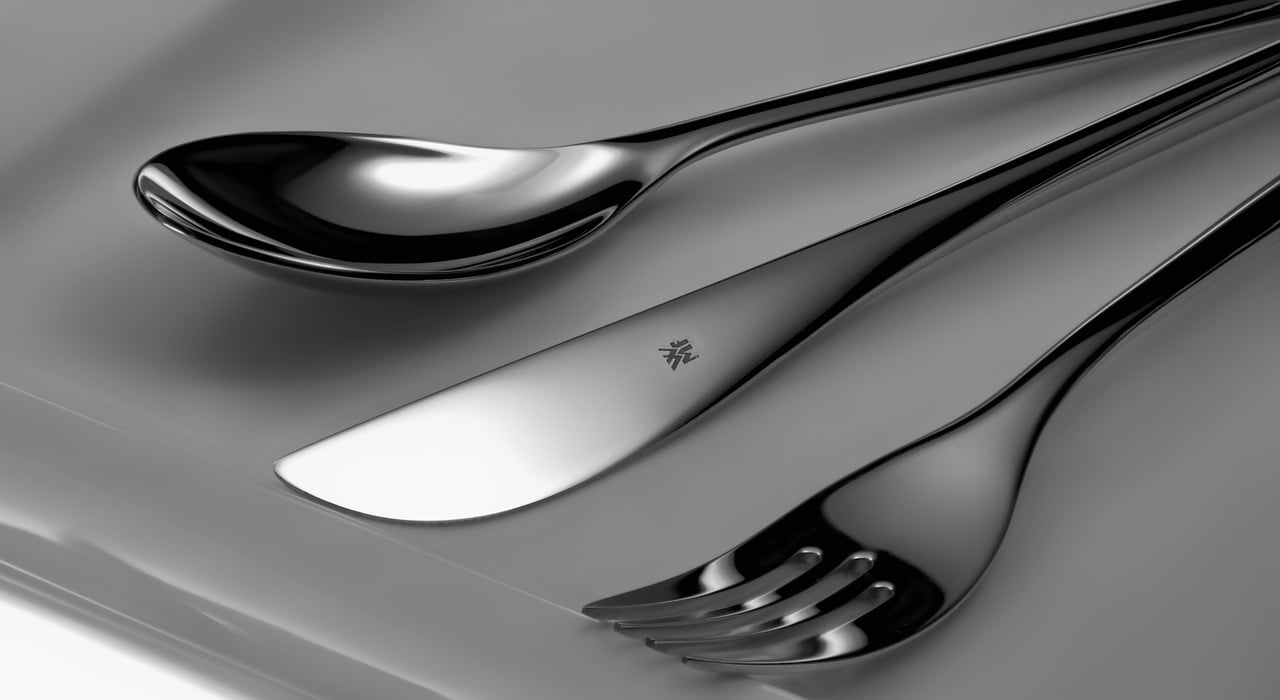knife: (272, 38, 1280, 528)
